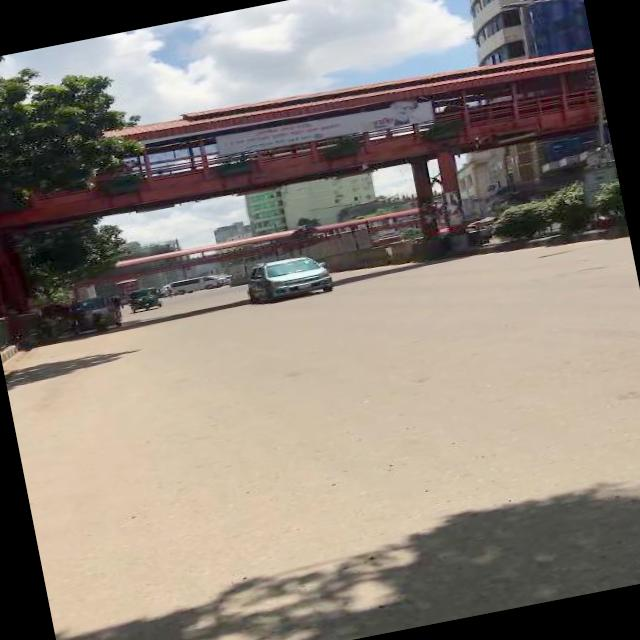car: (244, 248, 338, 307)
motorcycle: (72, 292, 124, 336), (128, 284, 166, 314)
truck: (171, 270, 231, 296)
